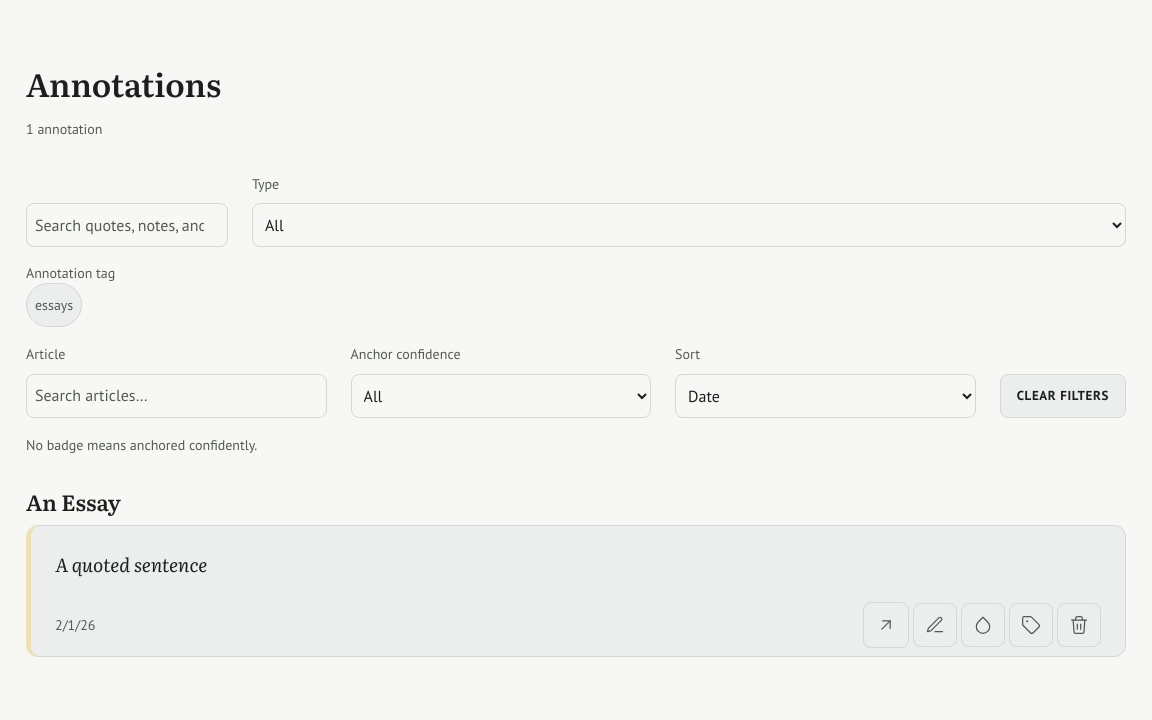
clears filters and article search while preserving sorting, without a Back control
Select "Position" in the dropdown labelled "Sort" at (825, 396), box [675,374,976,418]
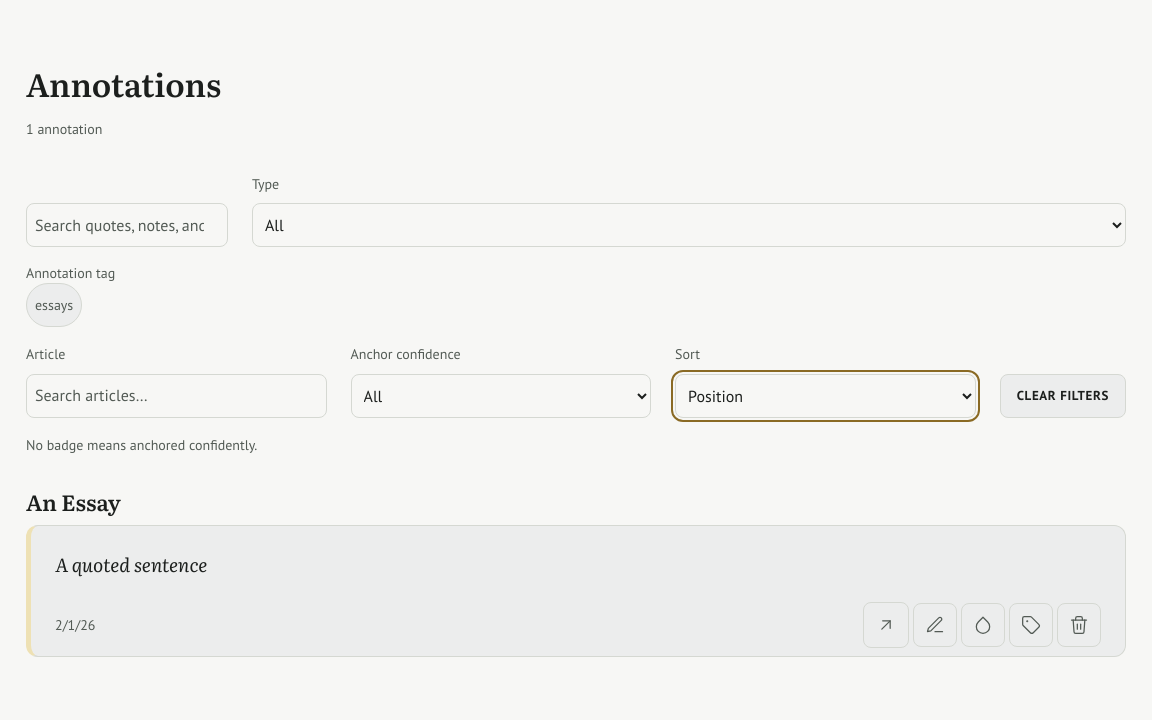
Select "Orphan" in the dropdown labelled "Anchor confidence" at (501, 396), box [350,374,651,418]
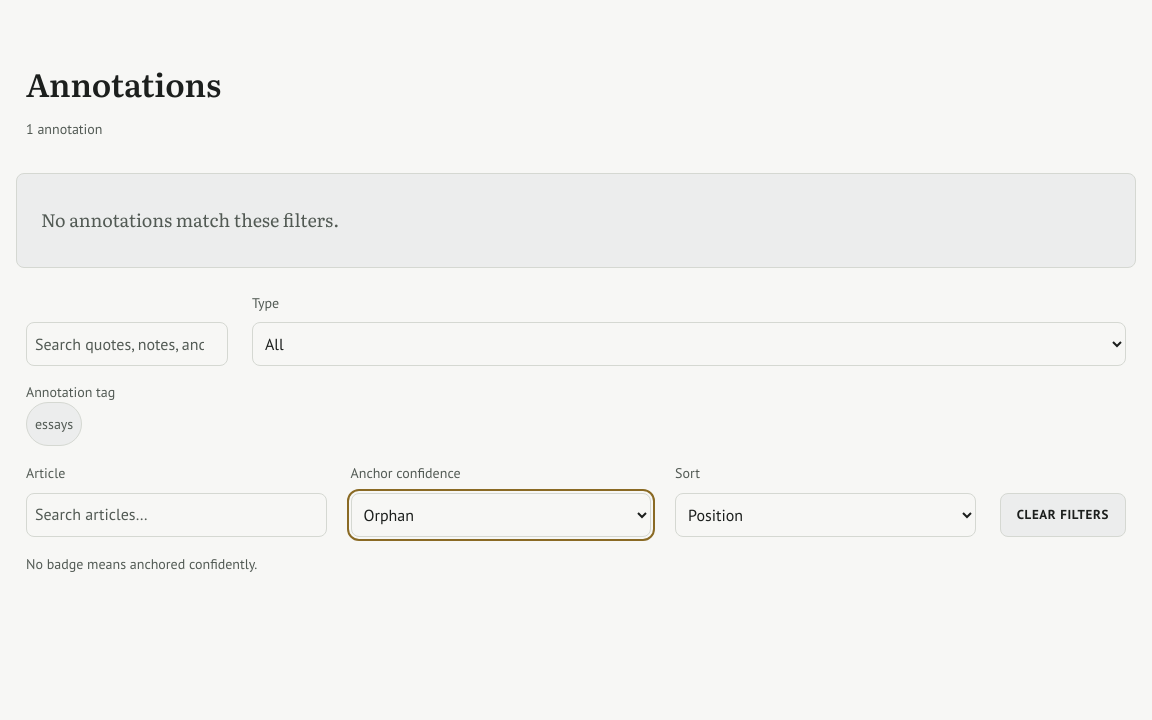
Type "missing" into the dropdown labelled "Article" at (176, 515), box [26,493,326,537]
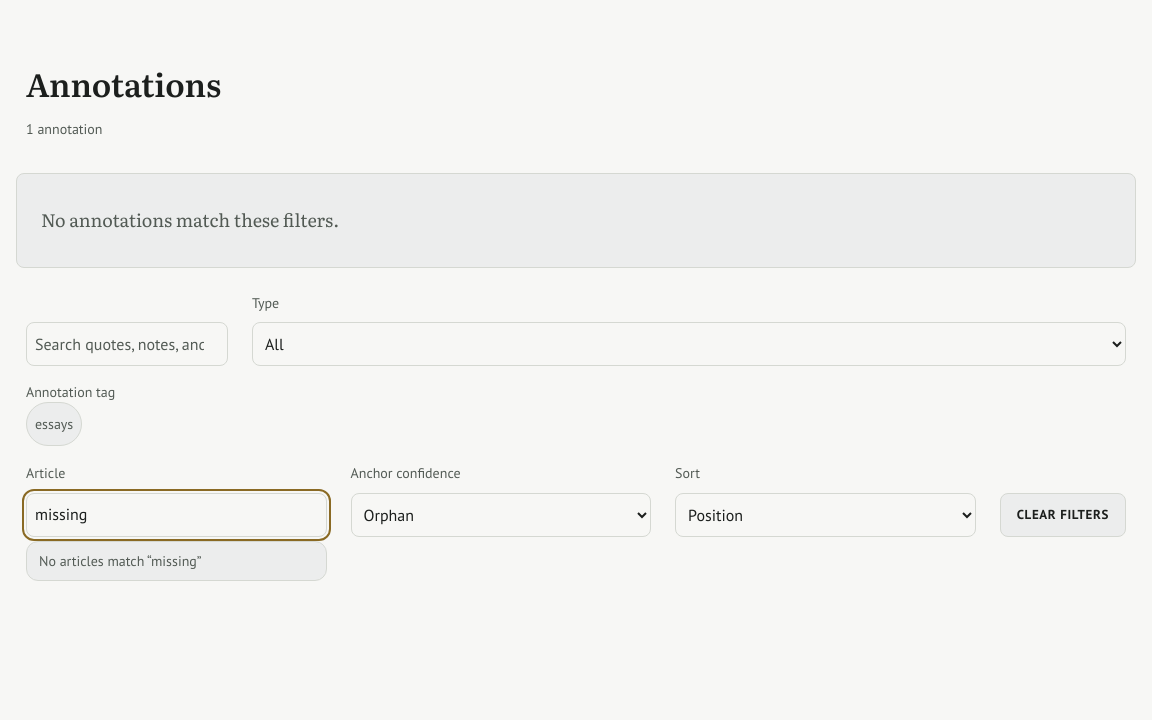
Click the button with aria-label "Filter by Annotation tag: essays" at (54, 424), box [26,402,82,446]
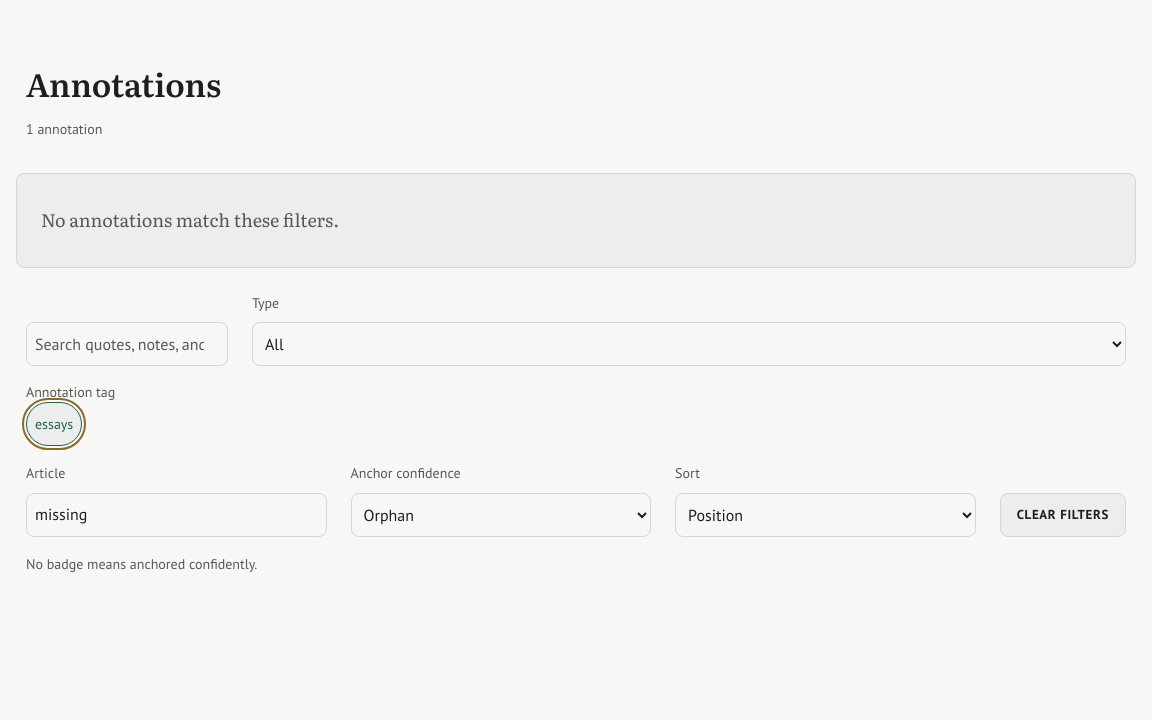
Click the button "Clear filters" at (1063, 515), box [1000,493,1126,537]
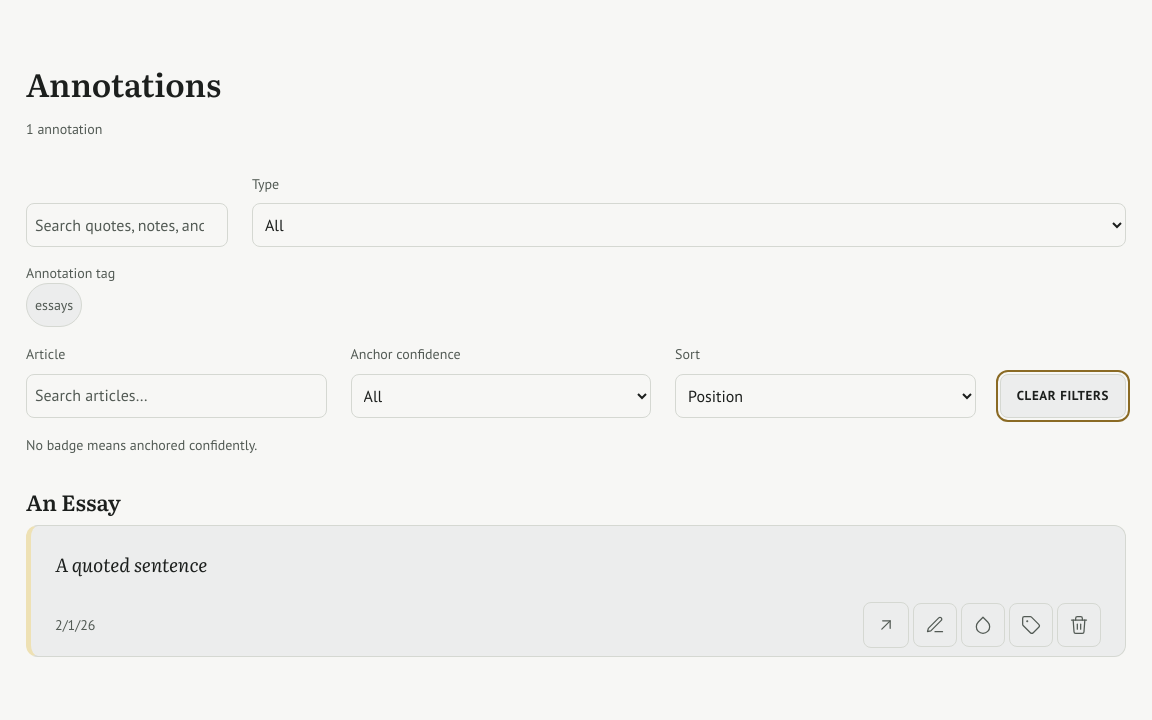
Result: the dropdown labelled "Article" is empty at [26,374,326,418]
